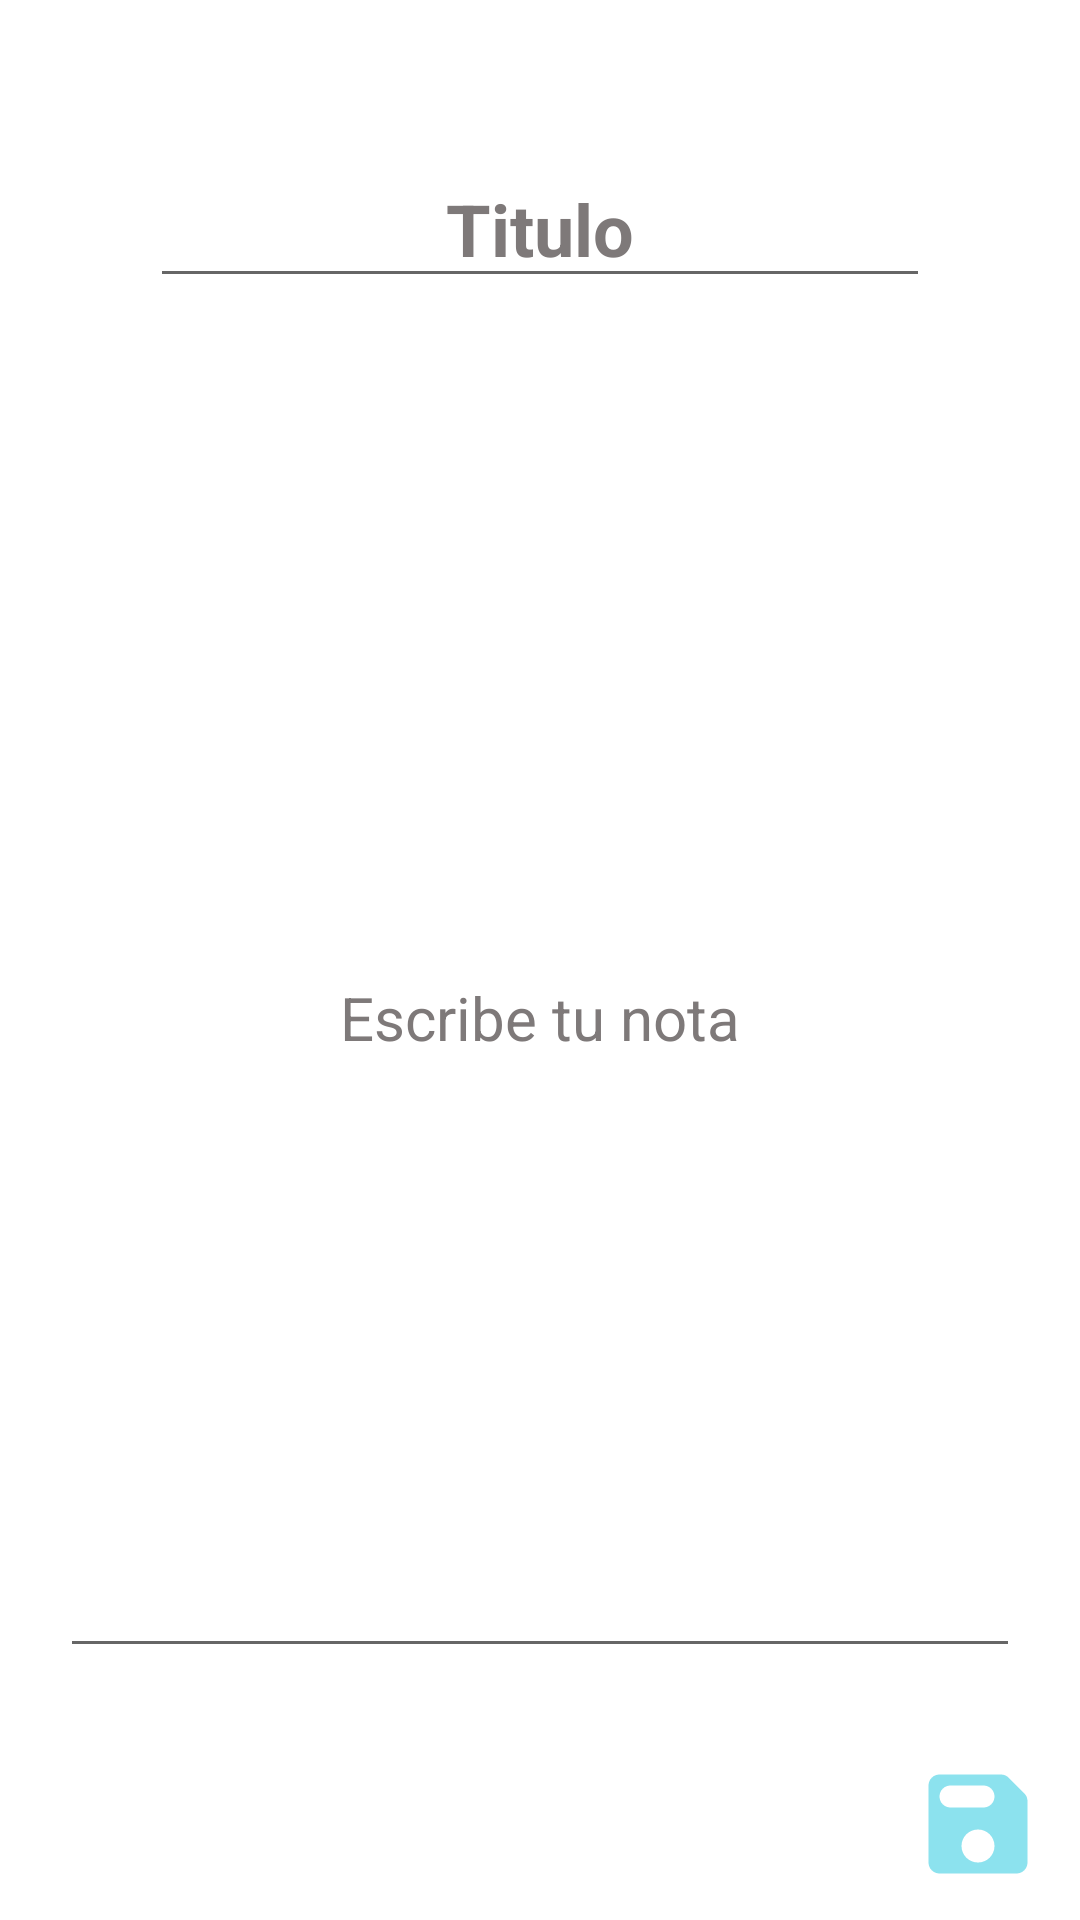

Screen size 1080*1920. Icon name, then its center in pixels as [x,y]:
save: [978,1824]
